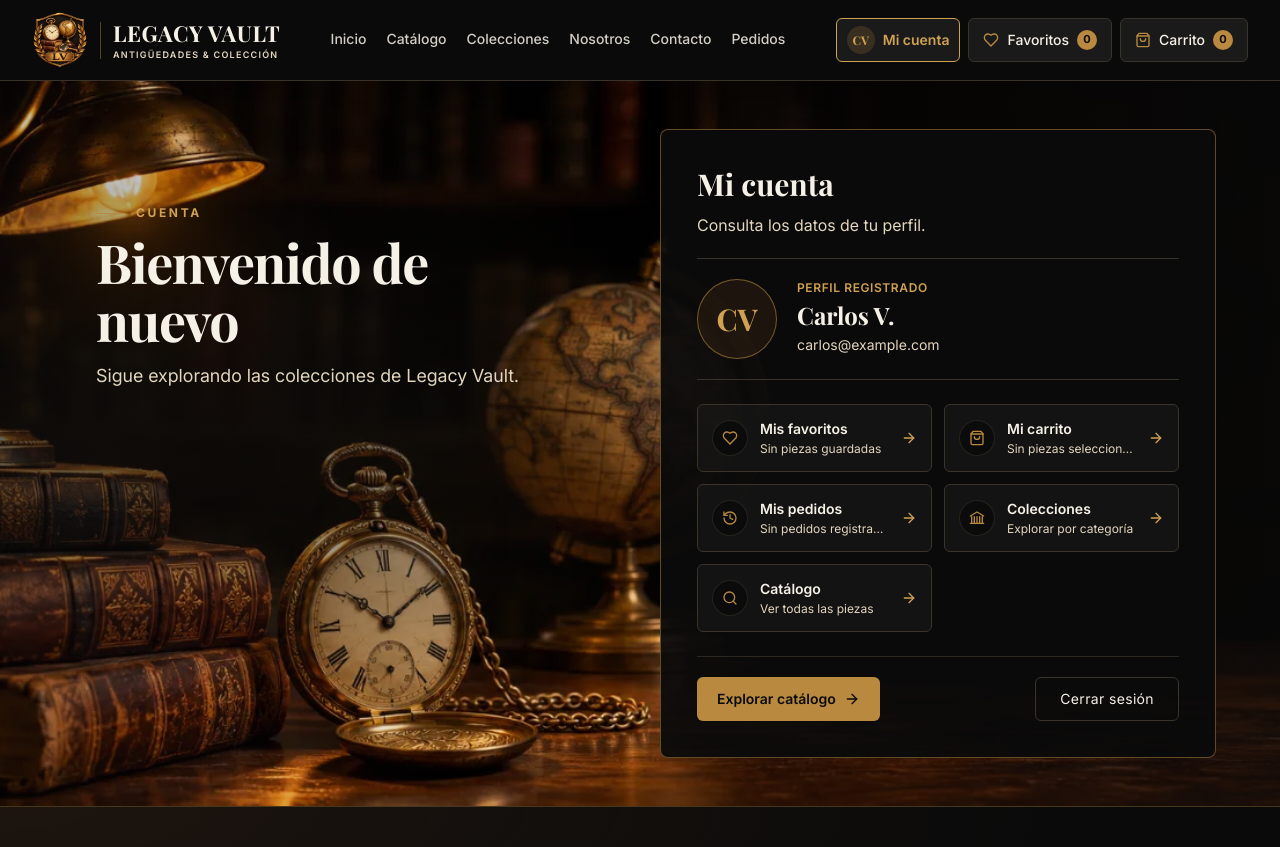
Pantalla de Mi cuenta (LoginPage) › conserva el cierre de sesión y muestra alerta si el logout falla
Step 1. Click the button "Cerrar sesión" → [1107, 698], box left=1035, top=676, right=1179, bottom=720
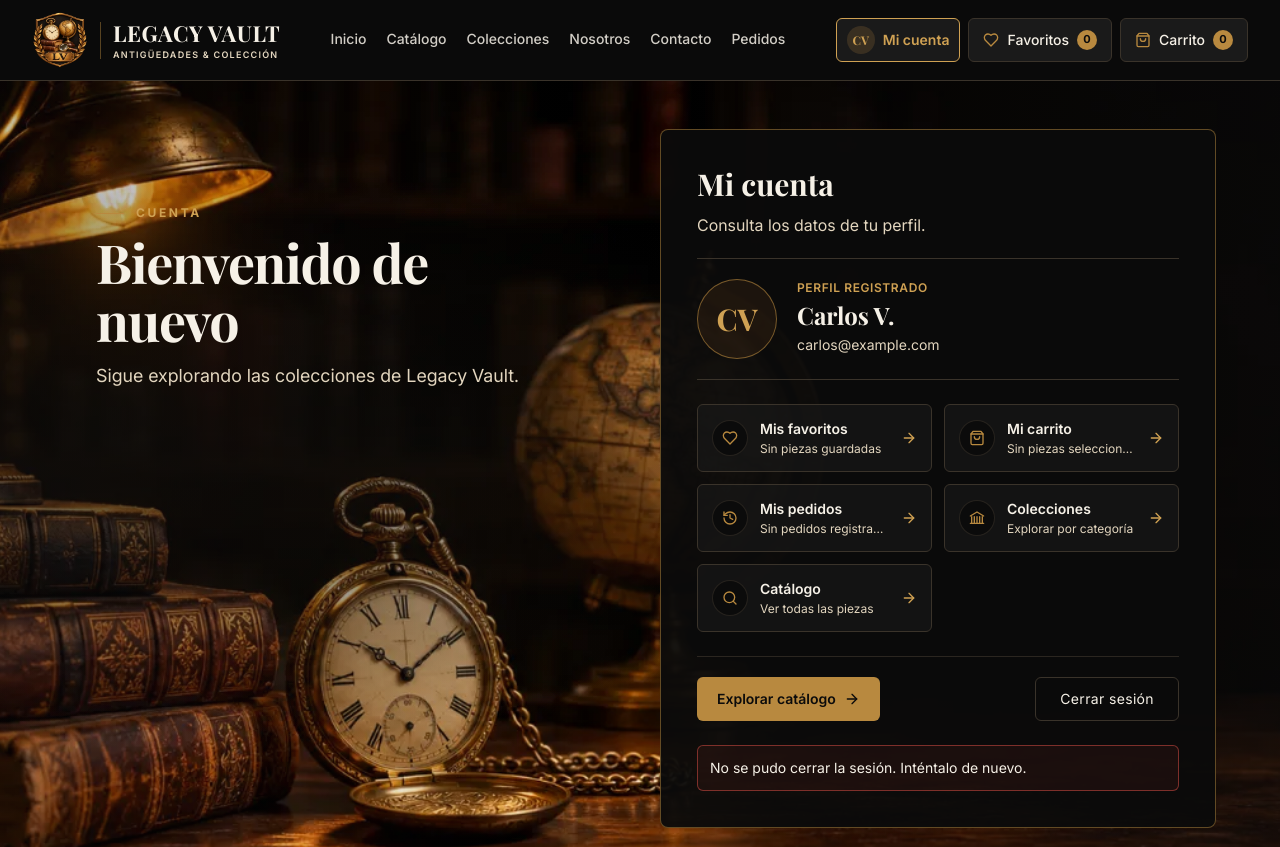
Now the message "No se pudo cerrar la sesión. Inténtalo de nuevo." is shown, box left=697, top=744, right=1179, bottom=790
